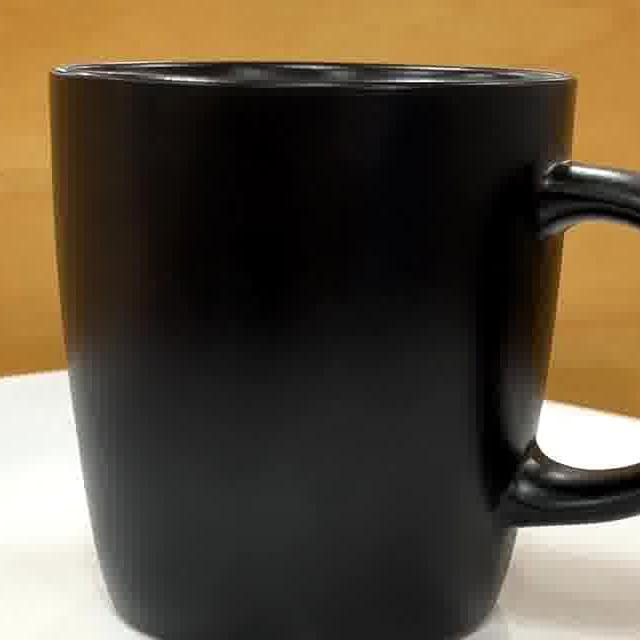cup: (56, 62, 640, 640)
